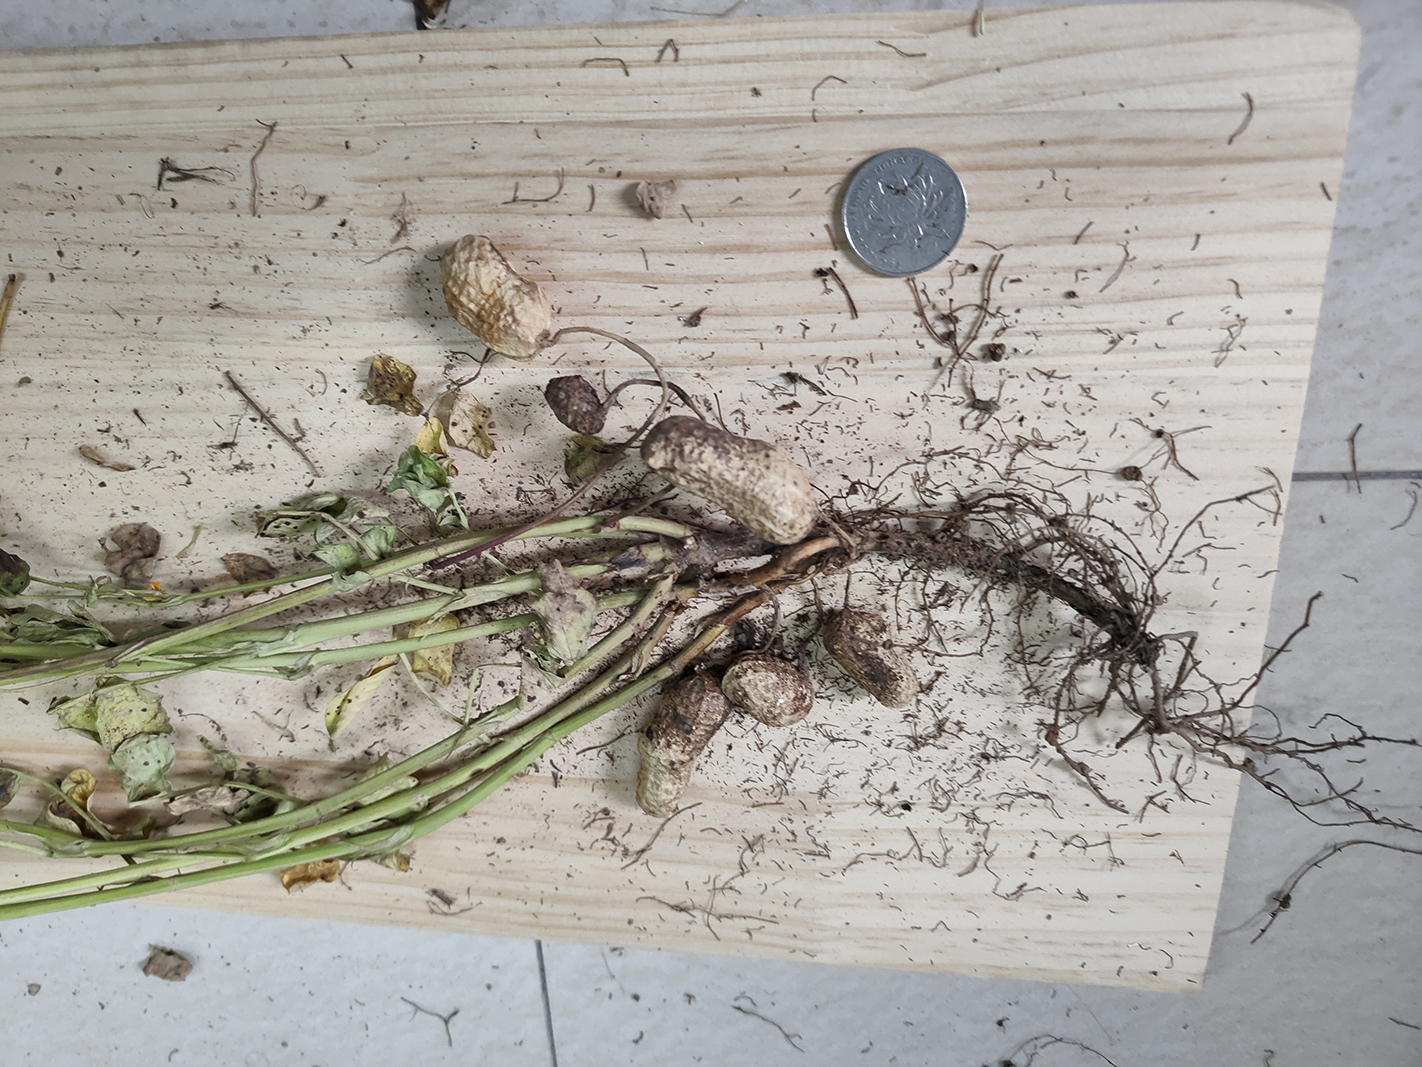h: (642, 417, 815, 542), (635, 656, 731, 814), (442, 236, 554, 356), (722, 652, 814, 727)
l: (822, 607, 920, 708), (546, 375, 606, 433)
